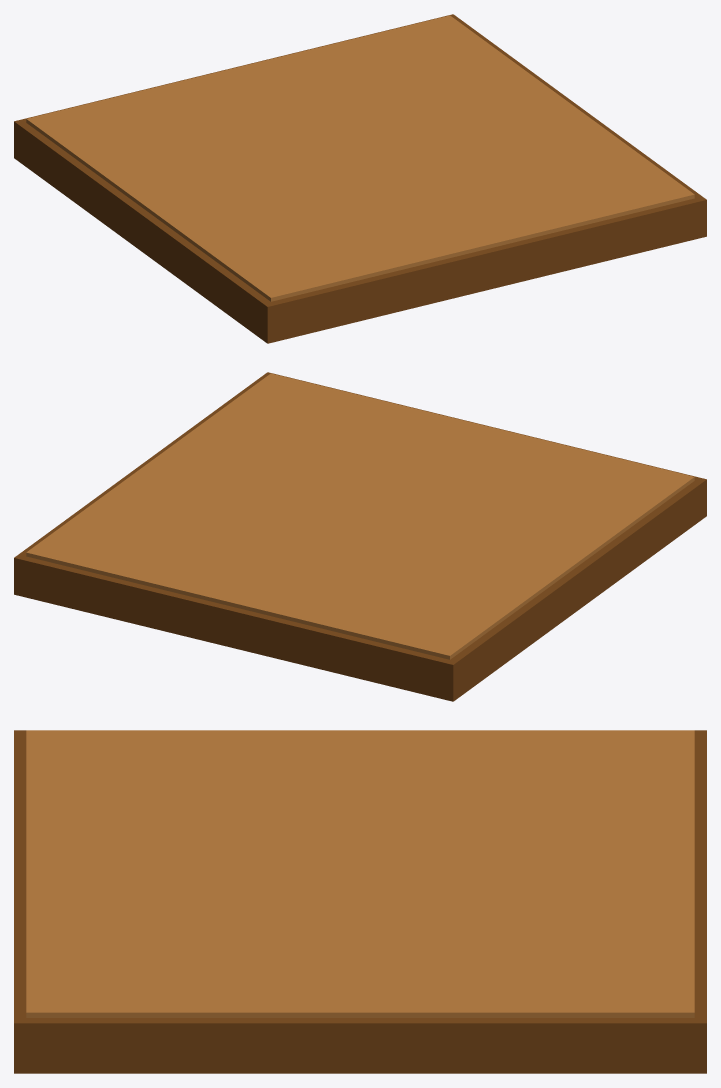
Rendered from Platform.fbx.
3 renders of one model, top to bottom at view 1: azimuth 30°, elevation 25°; view 2: azimuth 150°, elevation 25°; view 3: azimuth 270°, elevation 25°, orthographic. The views are drawn at different scales.
Visible parts, largest first — view 1: Cube; view 2: Cube; view 3: Cube.
Part boxes in pixels (left/top/right/bottom): Cube: left=14, top=14, right=706, bottom=343; Cube: left=14, top=372, right=706, bottom=701; Cube: left=14, top=730, right=706, bottom=1073.
Bounding box in the file's own units: 133 × 12.87 × 133.
